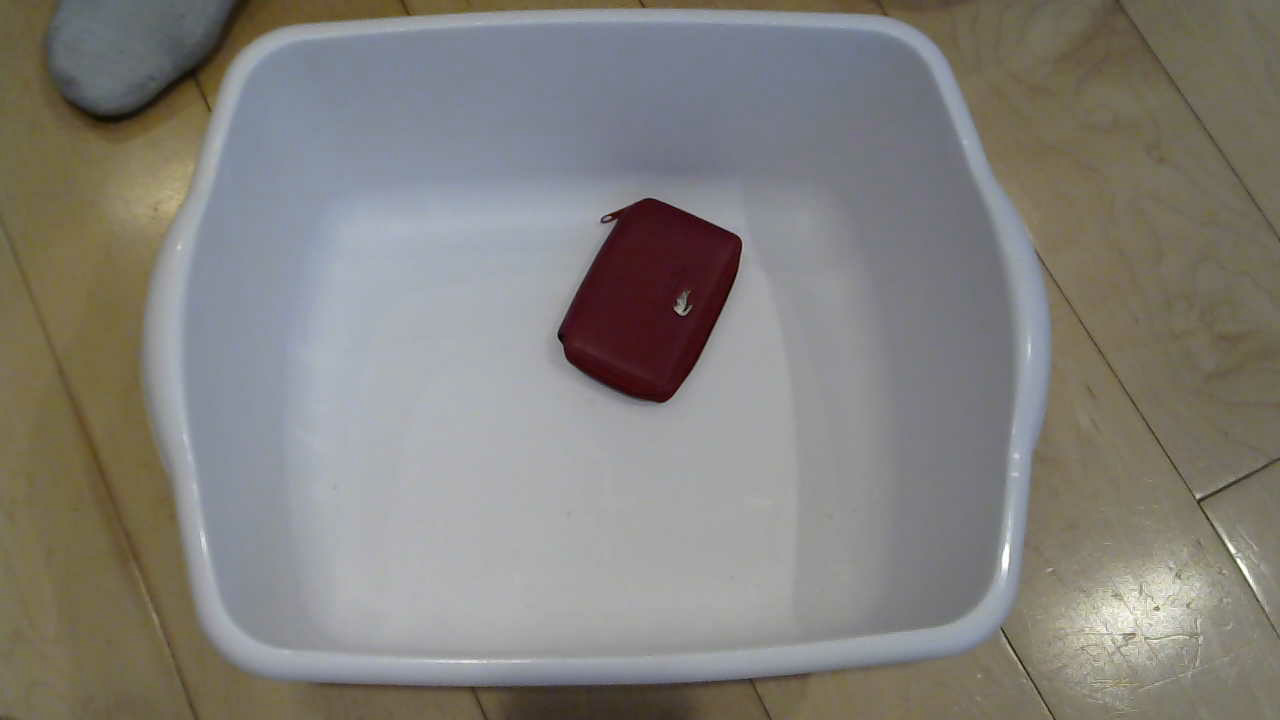wallet: (539, 188, 775, 428)
